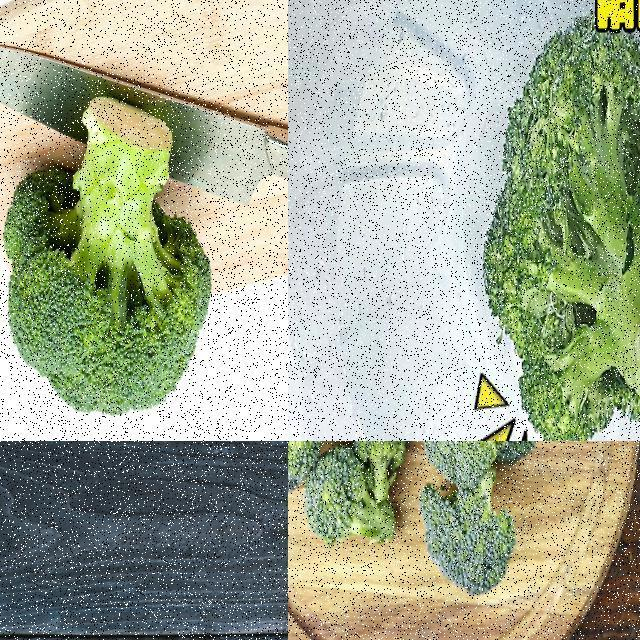broccoli: (0, 87, 213, 440), (480, 18, 639, 440), (412, 456, 512, 600), (306, 454, 399, 551), (425, 441, 510, 486), (486, 441, 547, 474)
